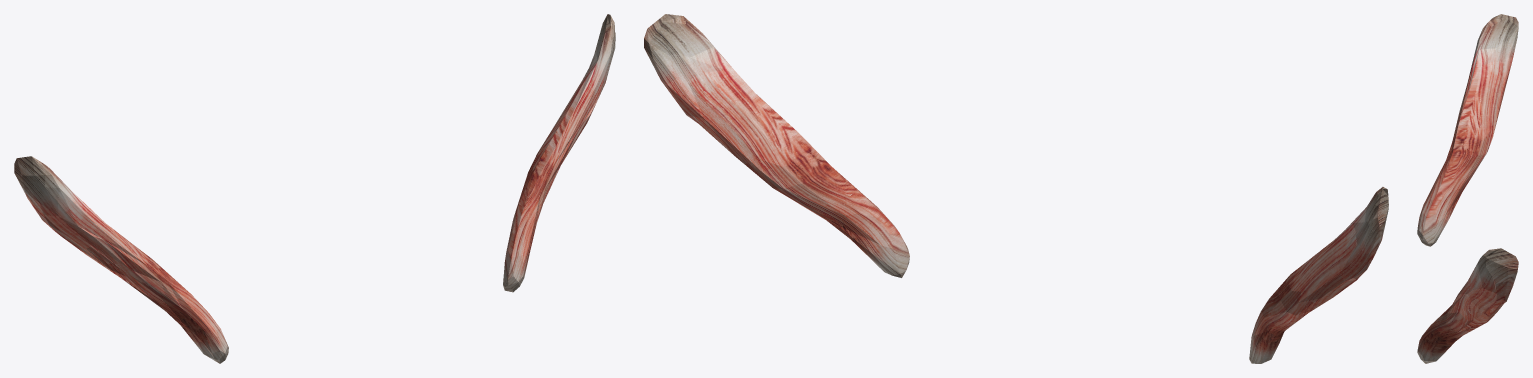
The model's file is Zygomatic_Major.obj.
3 renders of one model, left to right at view 1: azimuth 30°, elevation 25°; view 2: azimuth 150°, elevation 25°; view 3: azimuth 270°, elevation 25°, orthographic. The views are drawn at different scales.
Visible parts, largest first — view 1: Musculos_Cabeza_1:Zygomatic_Major1; view 2: Musculos_Cabeza_1:Zygomatic_Major1; view 3: Musculos_Cabeza_1:Zygomatic_Major1.
Boxes of the visible parts, x1,y1,x2,y2 form: Musculos_Cabeza_1:Zygomatic_Major1: [14, 14, 615, 363]; Musculos_Cabeza_1:Zygomatic_Major1: [644, 14, 1388, 363]; Musculos_Cabeza_1:Zygomatic_Major1: [1417, 14, 1518, 363].
Bounding box in the file's own units: 0.523 × 0.1762 × 0.0935.
Materials: 1 (1 with a texture image).
